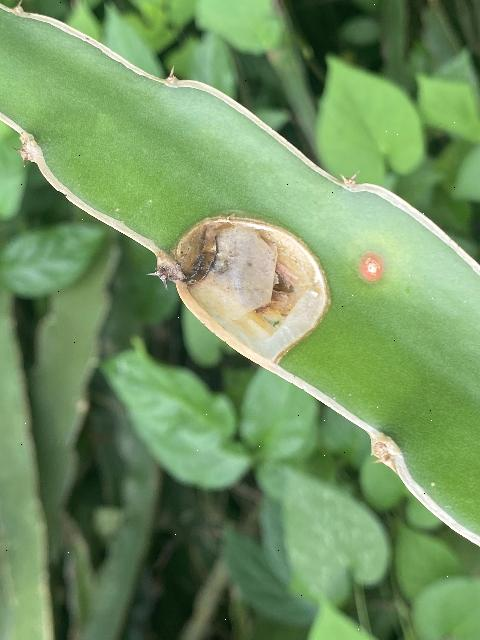stemcanker: (156, 202, 346, 372)
